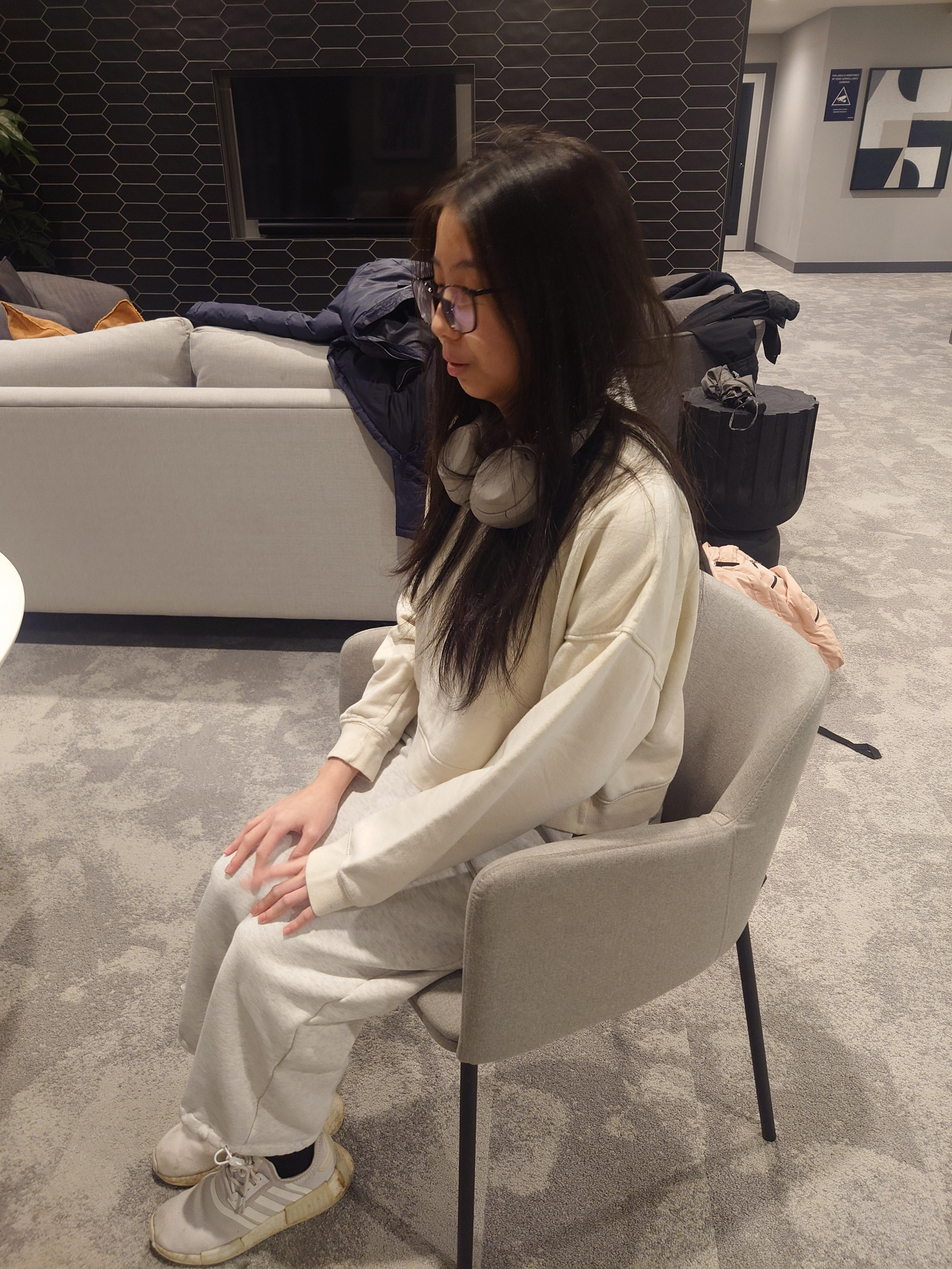GoodPosture: (147, 124, 702, 1264)
